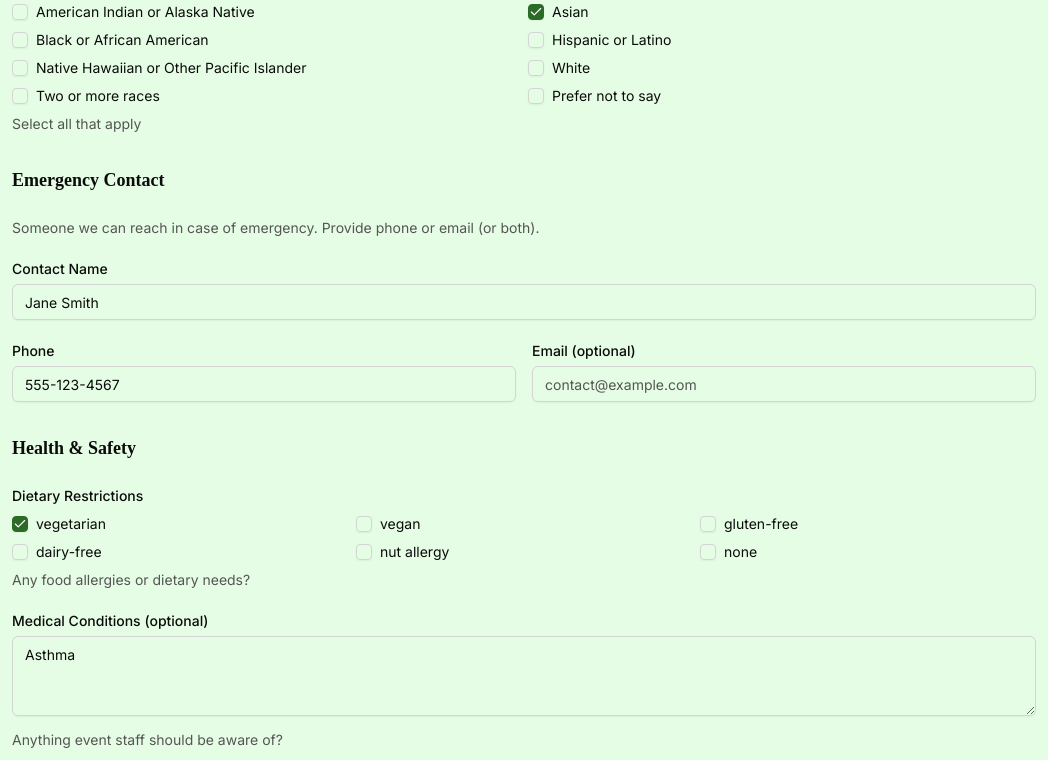
ProfileSettingsForm › validation › should show error for invalid phone format
(page scrolled)
Type "invalid-phone" into the field with test id "profile-emergency-phone-input" at (264, 384), box [12,366,516,402]
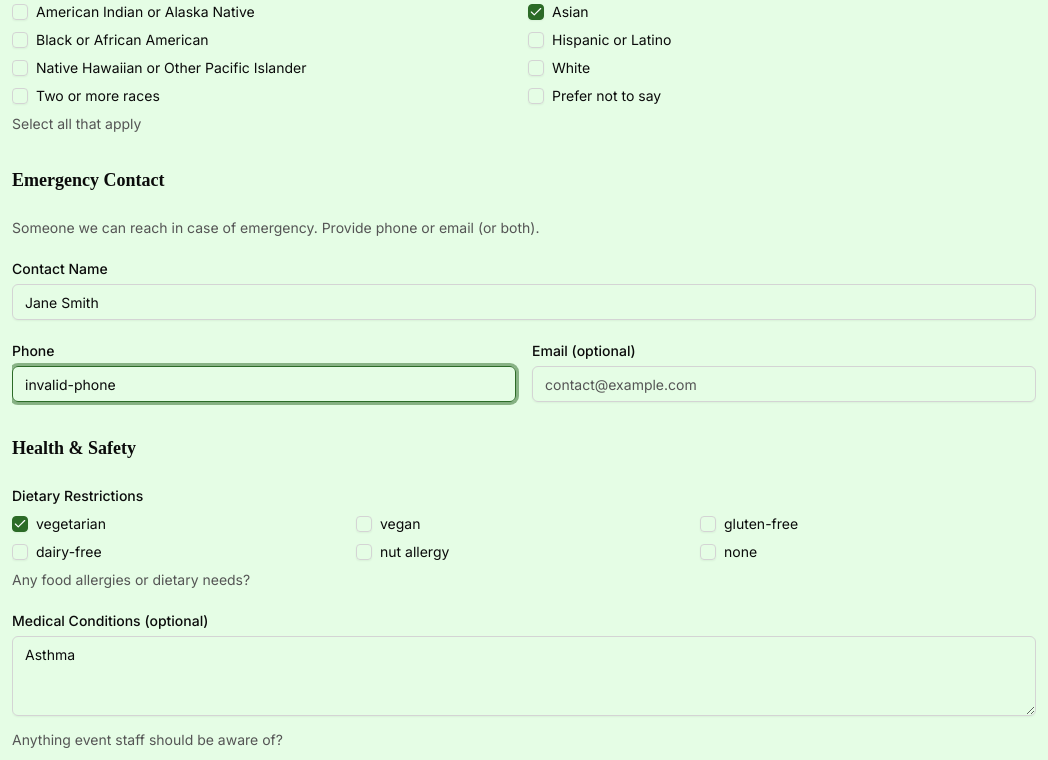
Press Tab
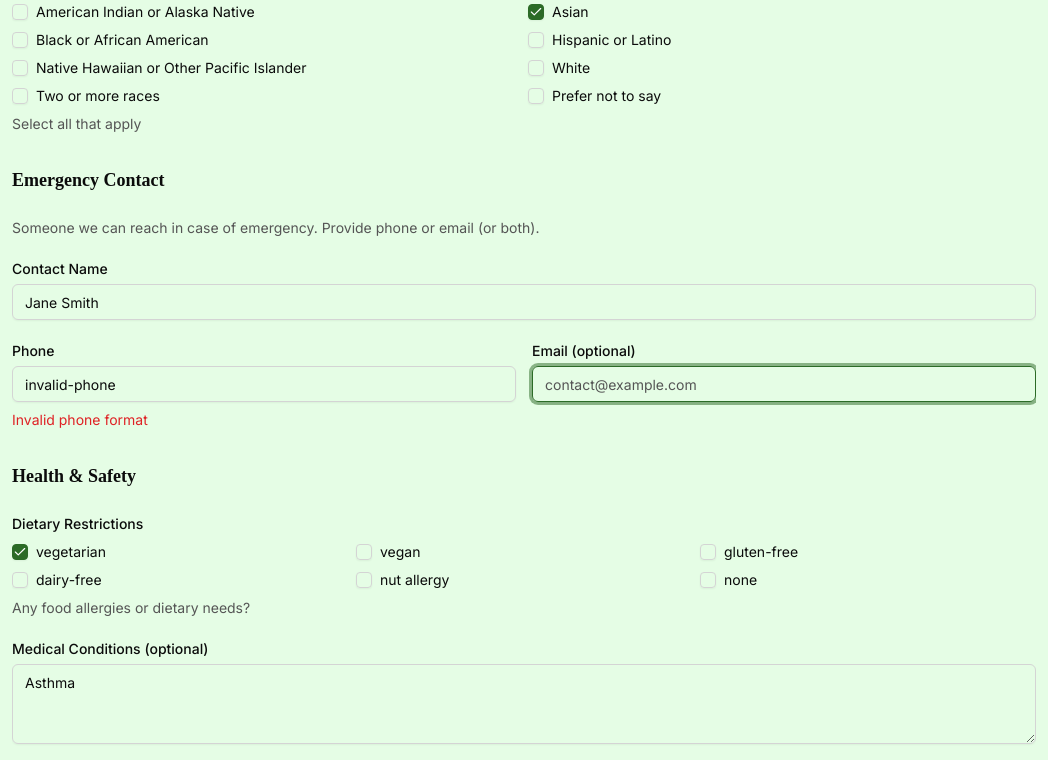
Expected: the text "Invalid phone format" is shown, [12,411,148,428]
